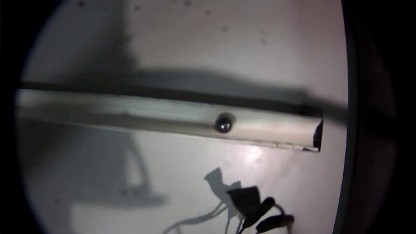gangzhu: (213, 117, 233, 134)
